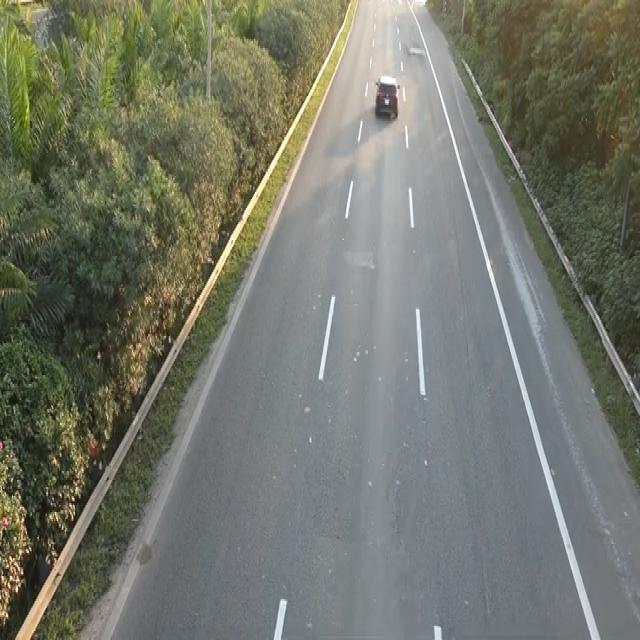car: (373, 71, 400, 119)
